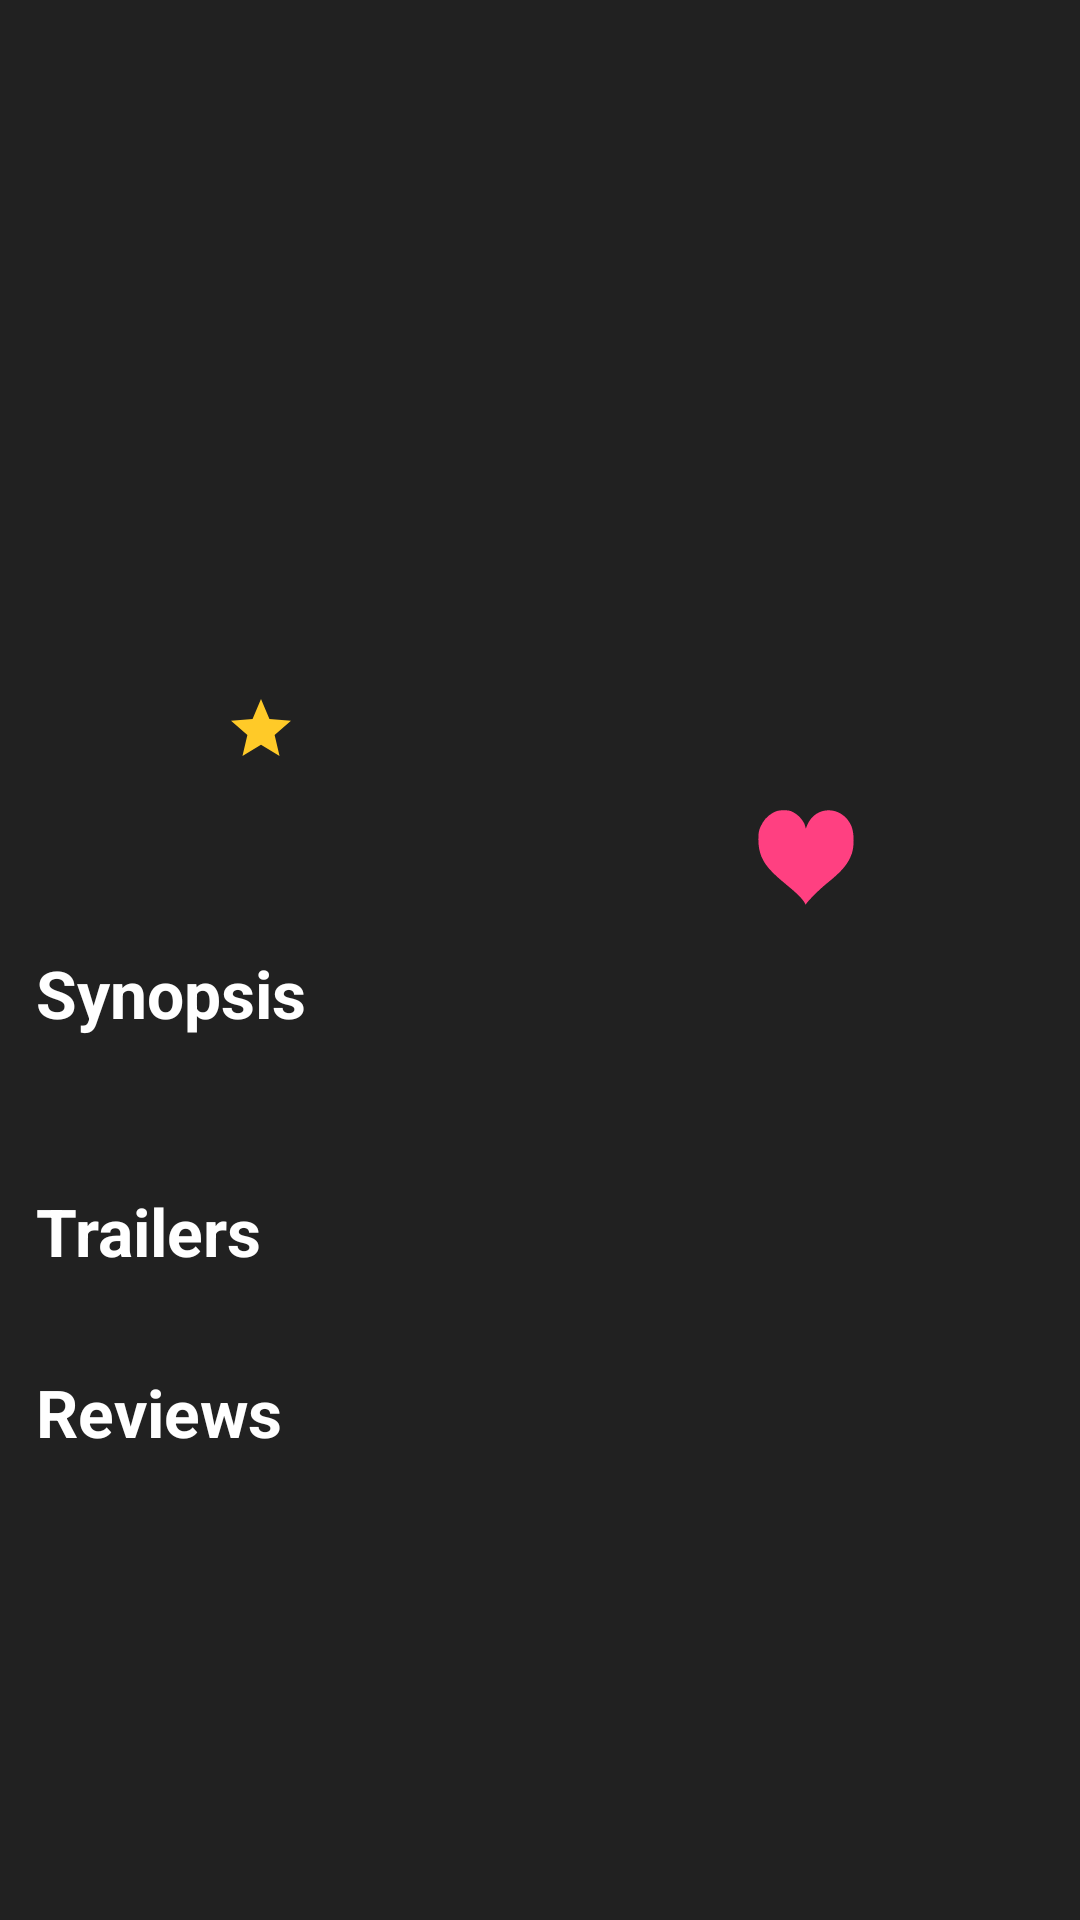

Named icons in this screenshot (1080px×1920px) and their bounding boxes, (x1, y1, x2, y2):
Add favorite button: (758, 810, 854, 905)
Rating star image: (231, 699, 291, 756)
